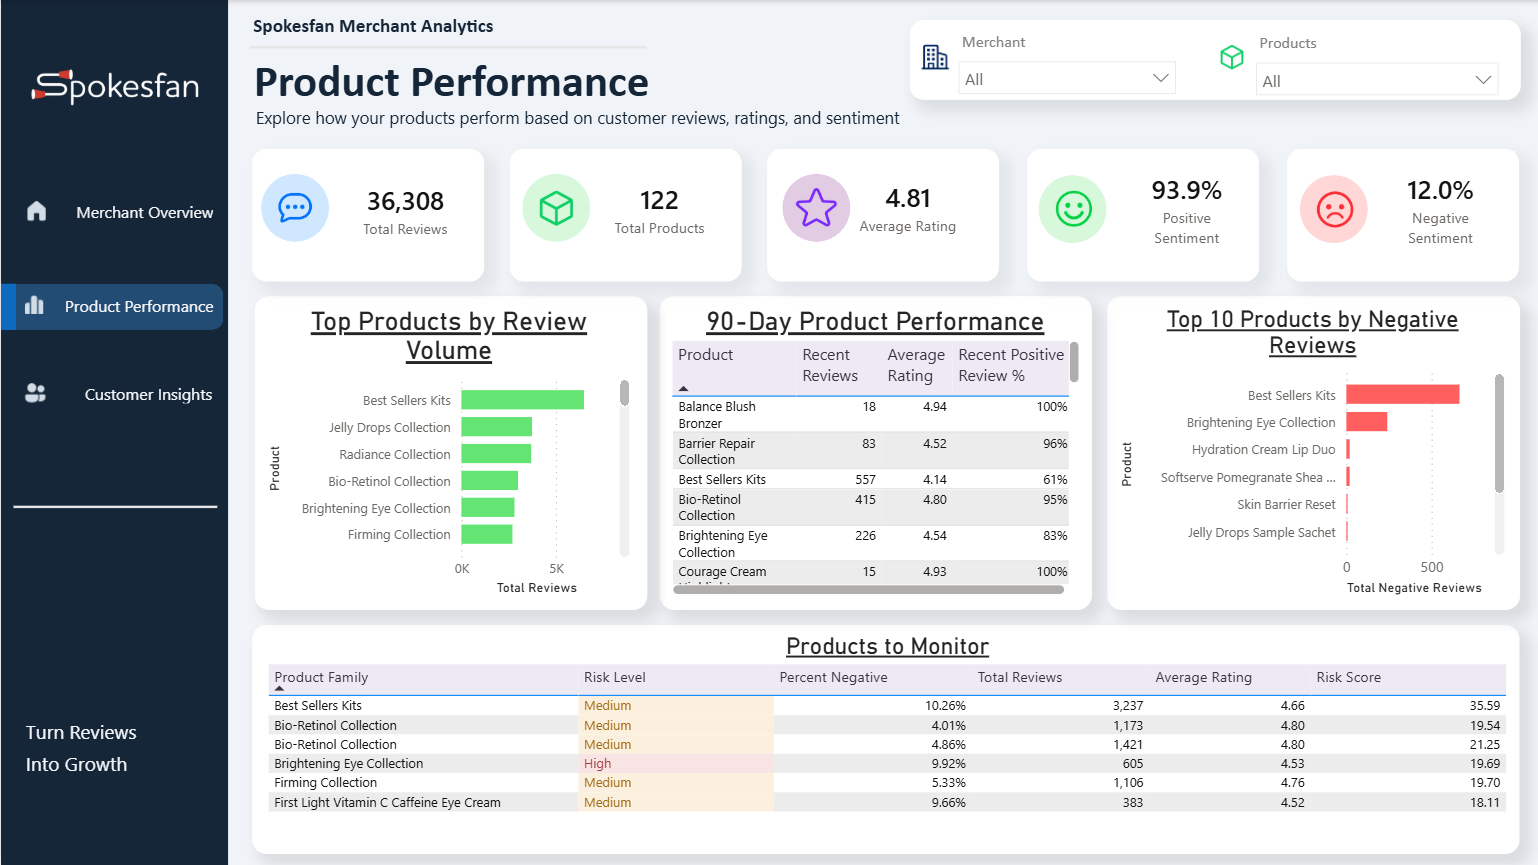

The page's visual inventory and layout, read from the dashboard file:
{"tool":"powerbi","page":{"name":"Product Performance","canvas":[1280,720],"ordinal":1},"visuals":[{"type":"shape","box":[899.4,519.7,363.7,191.1],"z":0},{"type":"shape","box":[899.4,314.5,363.7,191.1],"z":1000},{"type":"shape","box":[470.6,182.5,792.5,119.2],"z":2000},{"type":"shape","box":[469.4,314.5,415.9,396.2],"z":3000},{"type":"shape","box":[30.1,314.5,427,396.2],"z":4000},{"type":"textbox","box":[348.3,64.5,668.4,87.2],"z":5000},{"type":"slicer","fields":{"Values":["Dim Product.product_name"]},"box":[55.9,219.3,300.4,82.3],"z":6000},{"type":"cardVisual","fields":{"Data":["Product Sentiment.Total Reviews Display"]},"box":[483.1,191.6,172.3,101.1],"z":7000},{"type":"cardVisual","fields":{"Data":["Product Sentiment.Average Rating Display"]},"box":[655.4,191.6,181.4,101.1],"z":8000},{"type":"cardVisual","fields":{"Data":["Product Sentiment.Positive Sentiment Display"]},"box":[851,191.6,198.2,101.1],"z":9000},{"type":"cardVisual","fields":{"Data":["Product Sentiment.Negative Sentiment Display"]},"box":[1033.7,191.6,217.7,101.1],"z":10000},{"type":"clusteredBarChart","title":"Top Products by Review Volume","fields":{"Category":["Dim Product.product_family"],"Y":["Sum(Product Sentiment.total_reviews)"]},"box":[39.9,321.3,410.4,374.1],"z":12000},{"type":"clusteredBarChart","title":"Top 10 Products by Negative Reviews","fields":{"Category":["Product Performance Metrics.Product Family"],"Y":["Sum(Product Risk.negative_reviews)"]},"box":[911.1,321.3,343.4,177.5],"z":13000},{"type":"tableEx","title":"Products to Monitor","fields":{"Values":["Product Performance Metrics.Product Family","Product Performance Metrics.risk_level","Product Performance Metrics.Negative Sentiment %","Sum(Product Risk.total_reviews)","Sum(Product Risk.average_rating)","Avg(Product Performance Metrics.risk_score)"]},"box":[906.8,525.9,351.4,177.5],"z":14000},{"type":"tableEx","title":"90-Day Product Performance","fields":{"Values":["Recent Product Performance.Product Family","Sum(Recent Product Performance.recent_reviews)","Avg(Recent Product Performance.recent_average_rating)","Recent Product Performance.Recent Positive Sentiment %"]},"box":[500.7,321.3,350.2,378.4],"z":15000},{"type":"shape","box":[55.9,49.1,234.7,158.5],"z":16000},{"type":"textbox","box":[69.4,55.9,204,44.2],"z":17000},{"type":"slicer","fields":{"Values":["Dim Merchant.Merchant Display"]},"box":[74.3,100.1,204.6,100.8],"z":18000},{"type":"shape","box":[1167.8,16.6,95.2,83.5],"z":19000},{"type":"image","box":[1178.9,23.3,73.7,69.4],"z":20000}]}

Visuals, with their boxes on the page's 1280x720 design canvas (x1, y1, x2, y2). These are canvas units, not pixel positions in the 1538x865 screenshot, which may show the page scaled, cropped or inside an application window:
shape: region(899, 520, 1263, 711)
shape: region(899, 314, 1263, 506)
shape: region(471, 182, 1263, 302)
shape: region(469, 314, 885, 711)
shape: region(30, 314, 457, 711)
textbox: region(348, 64, 1017, 152)
slicer - Dim Product.product_name: region(56, 219, 356, 302)
cardVisual - Product Sentiment.Total Reviews Display: region(483, 192, 655, 293)
cardVisual - Product Sentiment.Average Rating Display: region(655, 192, 837, 293)
cardVisual - Product Sentiment.Positive Sentiment Display: region(851, 192, 1049, 293)
cardVisual - Product Sentiment.Negative Sentiment Display: region(1034, 192, 1251, 293)
"Top Products by Review Volume" clusteredBarChart: region(40, 321, 450, 695)
"Top 10 Products by Negative Reviews" clusteredBarChart: region(911, 321, 1254, 499)
"Products to Monitor" tableEx: region(907, 526, 1258, 703)
"90-Day Product Performance" tableEx: region(501, 321, 851, 700)
shape: region(56, 49, 291, 208)
textbox: region(69, 56, 273, 100)
slicer - Dim Merchant.Merchant Display: region(74, 100, 279, 201)
shape: region(1168, 17, 1263, 100)
image: region(1179, 23, 1253, 93)
